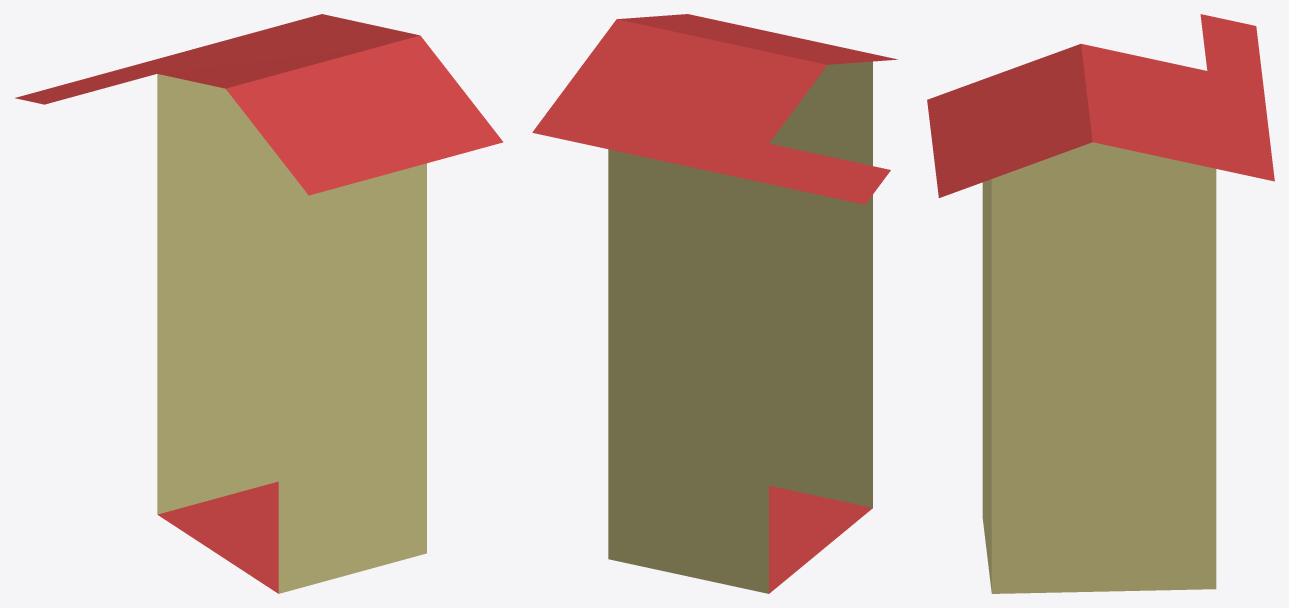
3 renders of one model, left to right at view 1: azimuth 30°, elevation 25°; view 2: azimuth 150°, elevation 25°; view 3: azimuth 270°, elevation 25°, orthographic. The views are drawn at different scales.
Size of the model in its own units: 5.17 by 4.67 by 7.01.
